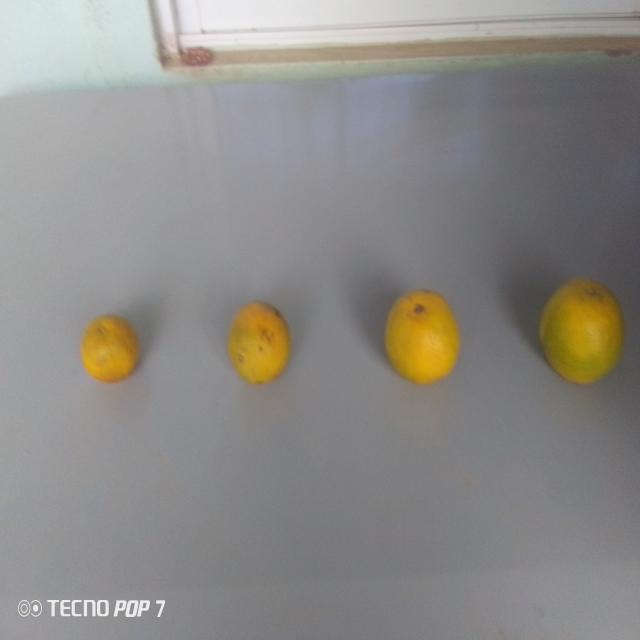Ripe orange: (536, 270, 628, 391), (381, 286, 468, 392), (226, 294, 297, 394), (74, 306, 144, 392)
